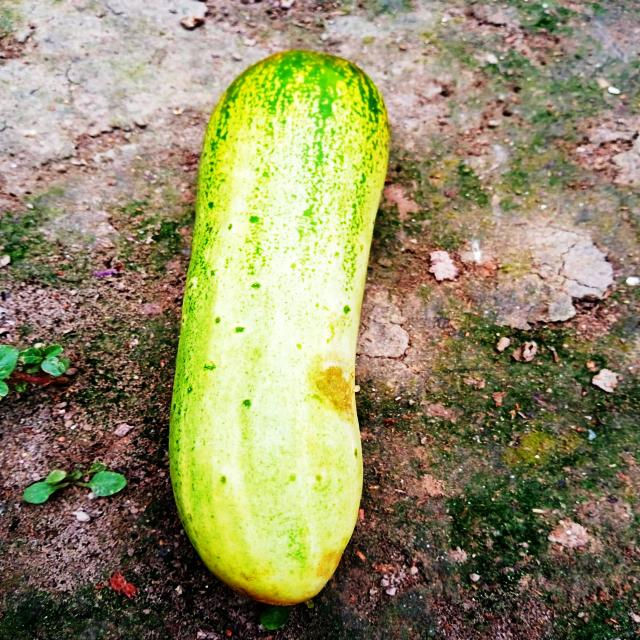Belly-Rot: (305, 347, 360, 432)
